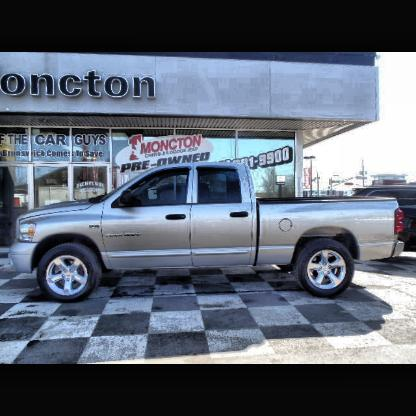Dodge Ram Pickup 3500 Quad Cab 2009: (9, 162, 408, 303)
